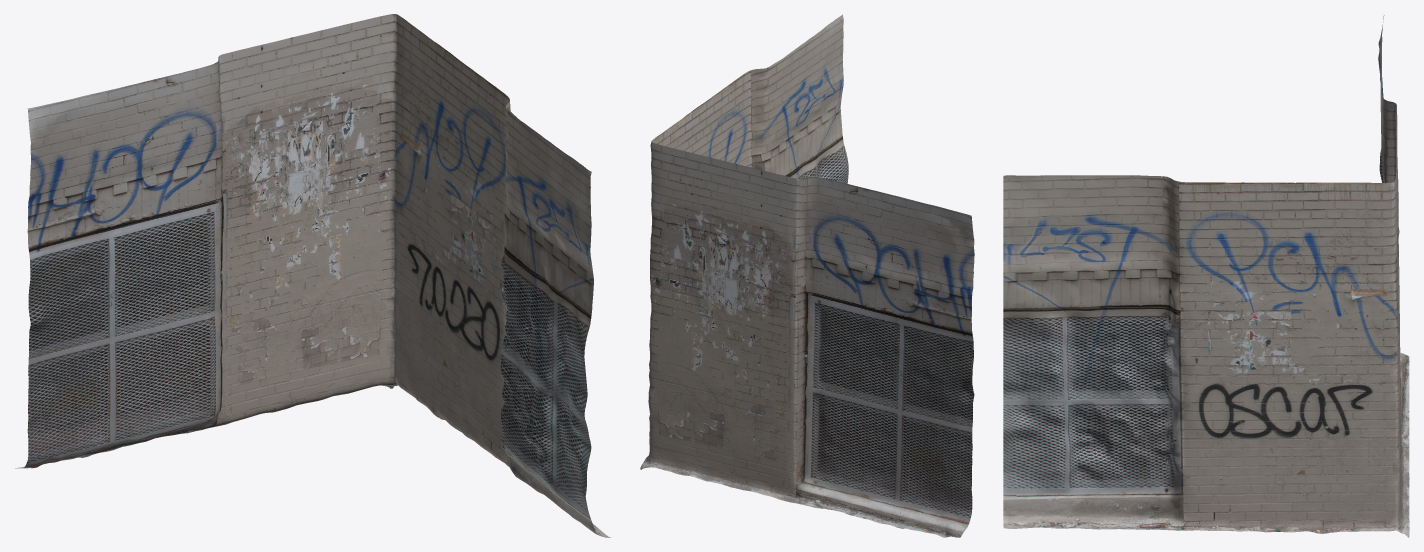
Rendered from Outside_Corner_Demo.fbx.
The picture shows the model from 3 angles, left to right: view 1: azimuth 30°, elevation 25°; view 2: azimuth 150°, elevation 25°; view 3: azimuth 270°, elevation 25°; orthographic projection. The views are drawn at different scales.
Parts seen in each view (by area): view 1: Model; view 2: Model; view 3: Model.
Part boxes in pixels (x1=…): Model: x1=15, y1=14, x2=610, y2=537; Model: x1=640, y1=14, x2=974, y2=537; Model: x1=1003, y1=15, x2=1409, y2=537.
Size of the model in its own units: 7.84 by 7.56 by 7.88.
